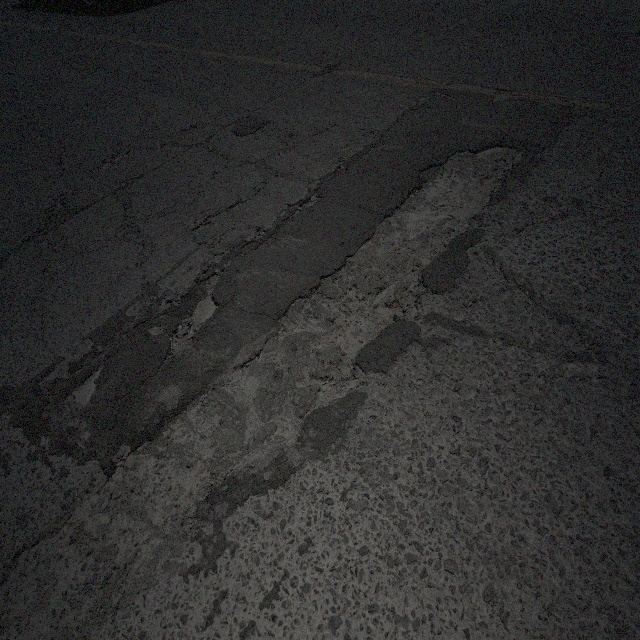pothole: (267, 139, 527, 445), (163, 262, 220, 369), (66, 360, 106, 420), (308, 374, 357, 410), (93, 144, 132, 187), (290, 185, 320, 219), (172, 313, 193, 361), (563, 356, 602, 377), (490, 82, 517, 103)
